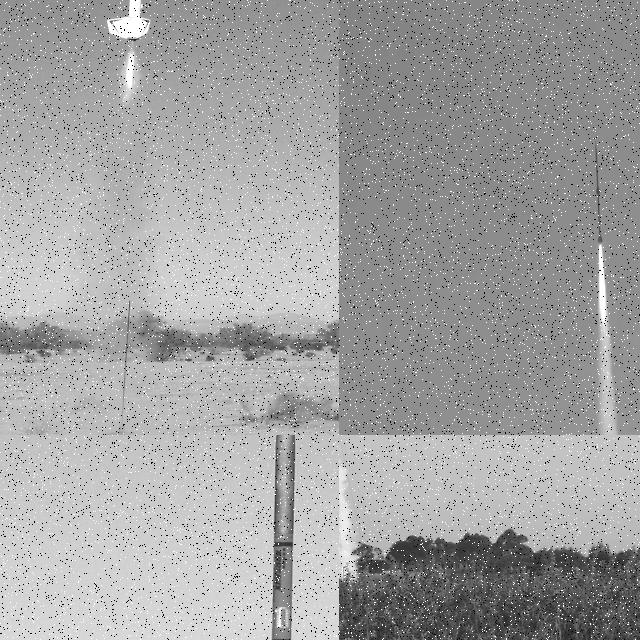Rocket: (254, 435, 318, 640), (107, 0, 152, 41), (595, 140, 603, 246)
